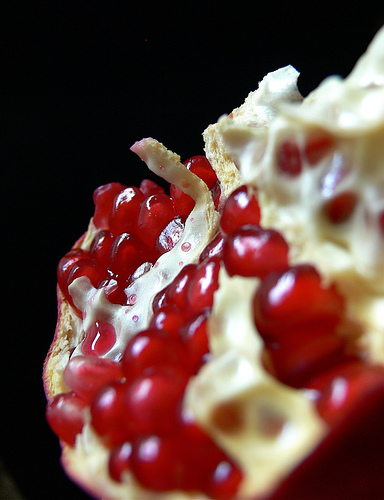pomogranate: (40, 25, 382, 498)
